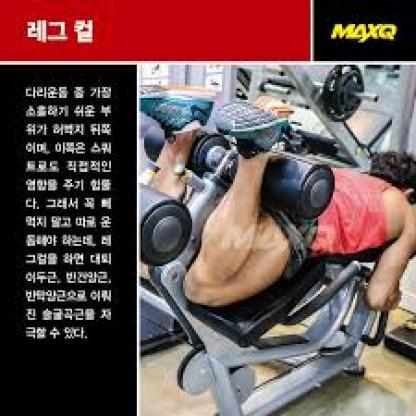reg curl machine: (138, 90, 414, 416)
